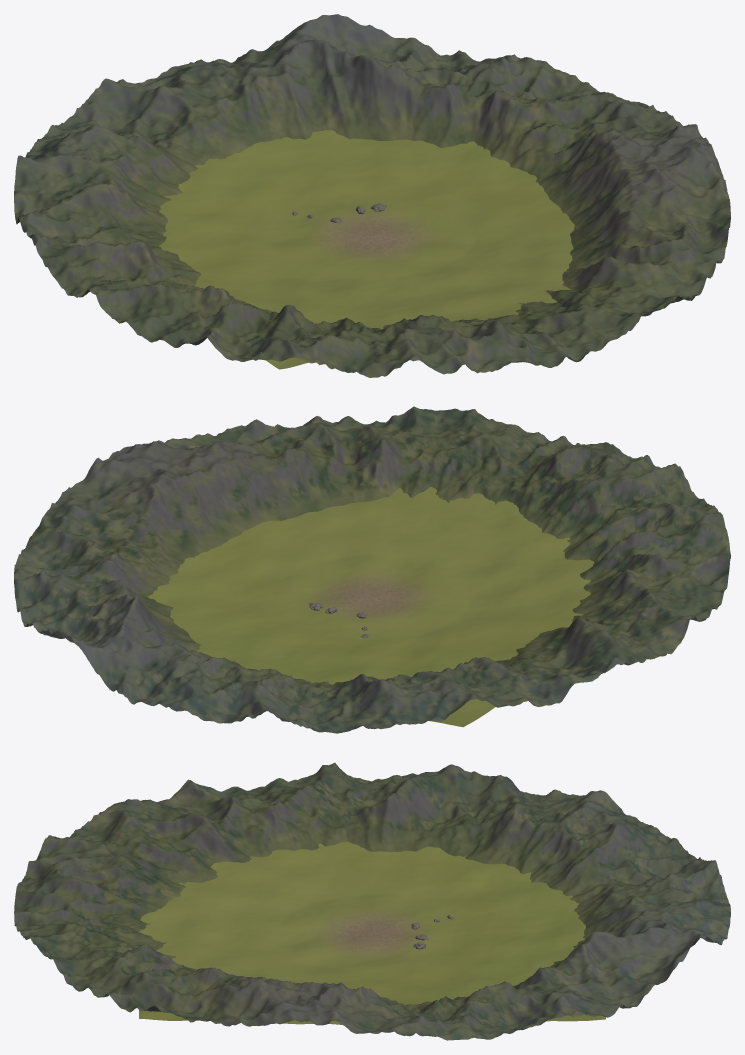
The model's file is tal_base.glb.
3 views of the same model, one above another, from view 1: azimuth 30°, elevation 25°; view 2: azimuth 150°, elevation 25°; view 3: azimuth 270°, elevation 25° (orthographic). The views are drawn at different scales.
Visible parts, largest first — view 1: Uul, Gazar; view 2: Uul, Gazar; view 3: Uul, Gazar.
Boxes of the visible parts, box(x1,y1,x2,y2) form: Uul: box(14, 14, 730, 377); Gazar: box(158, 130, 574, 369); Uul: box(14, 406, 730, 733); Gazar: box(147, 487, 594, 727); Uul: box(14, 762, 730, 1040); Gazar: box(139, 841, 605, 1024).
Size of the model in its own units: 416 by 40.33 by 461.
Materials: 3 (1 with a texture image).
